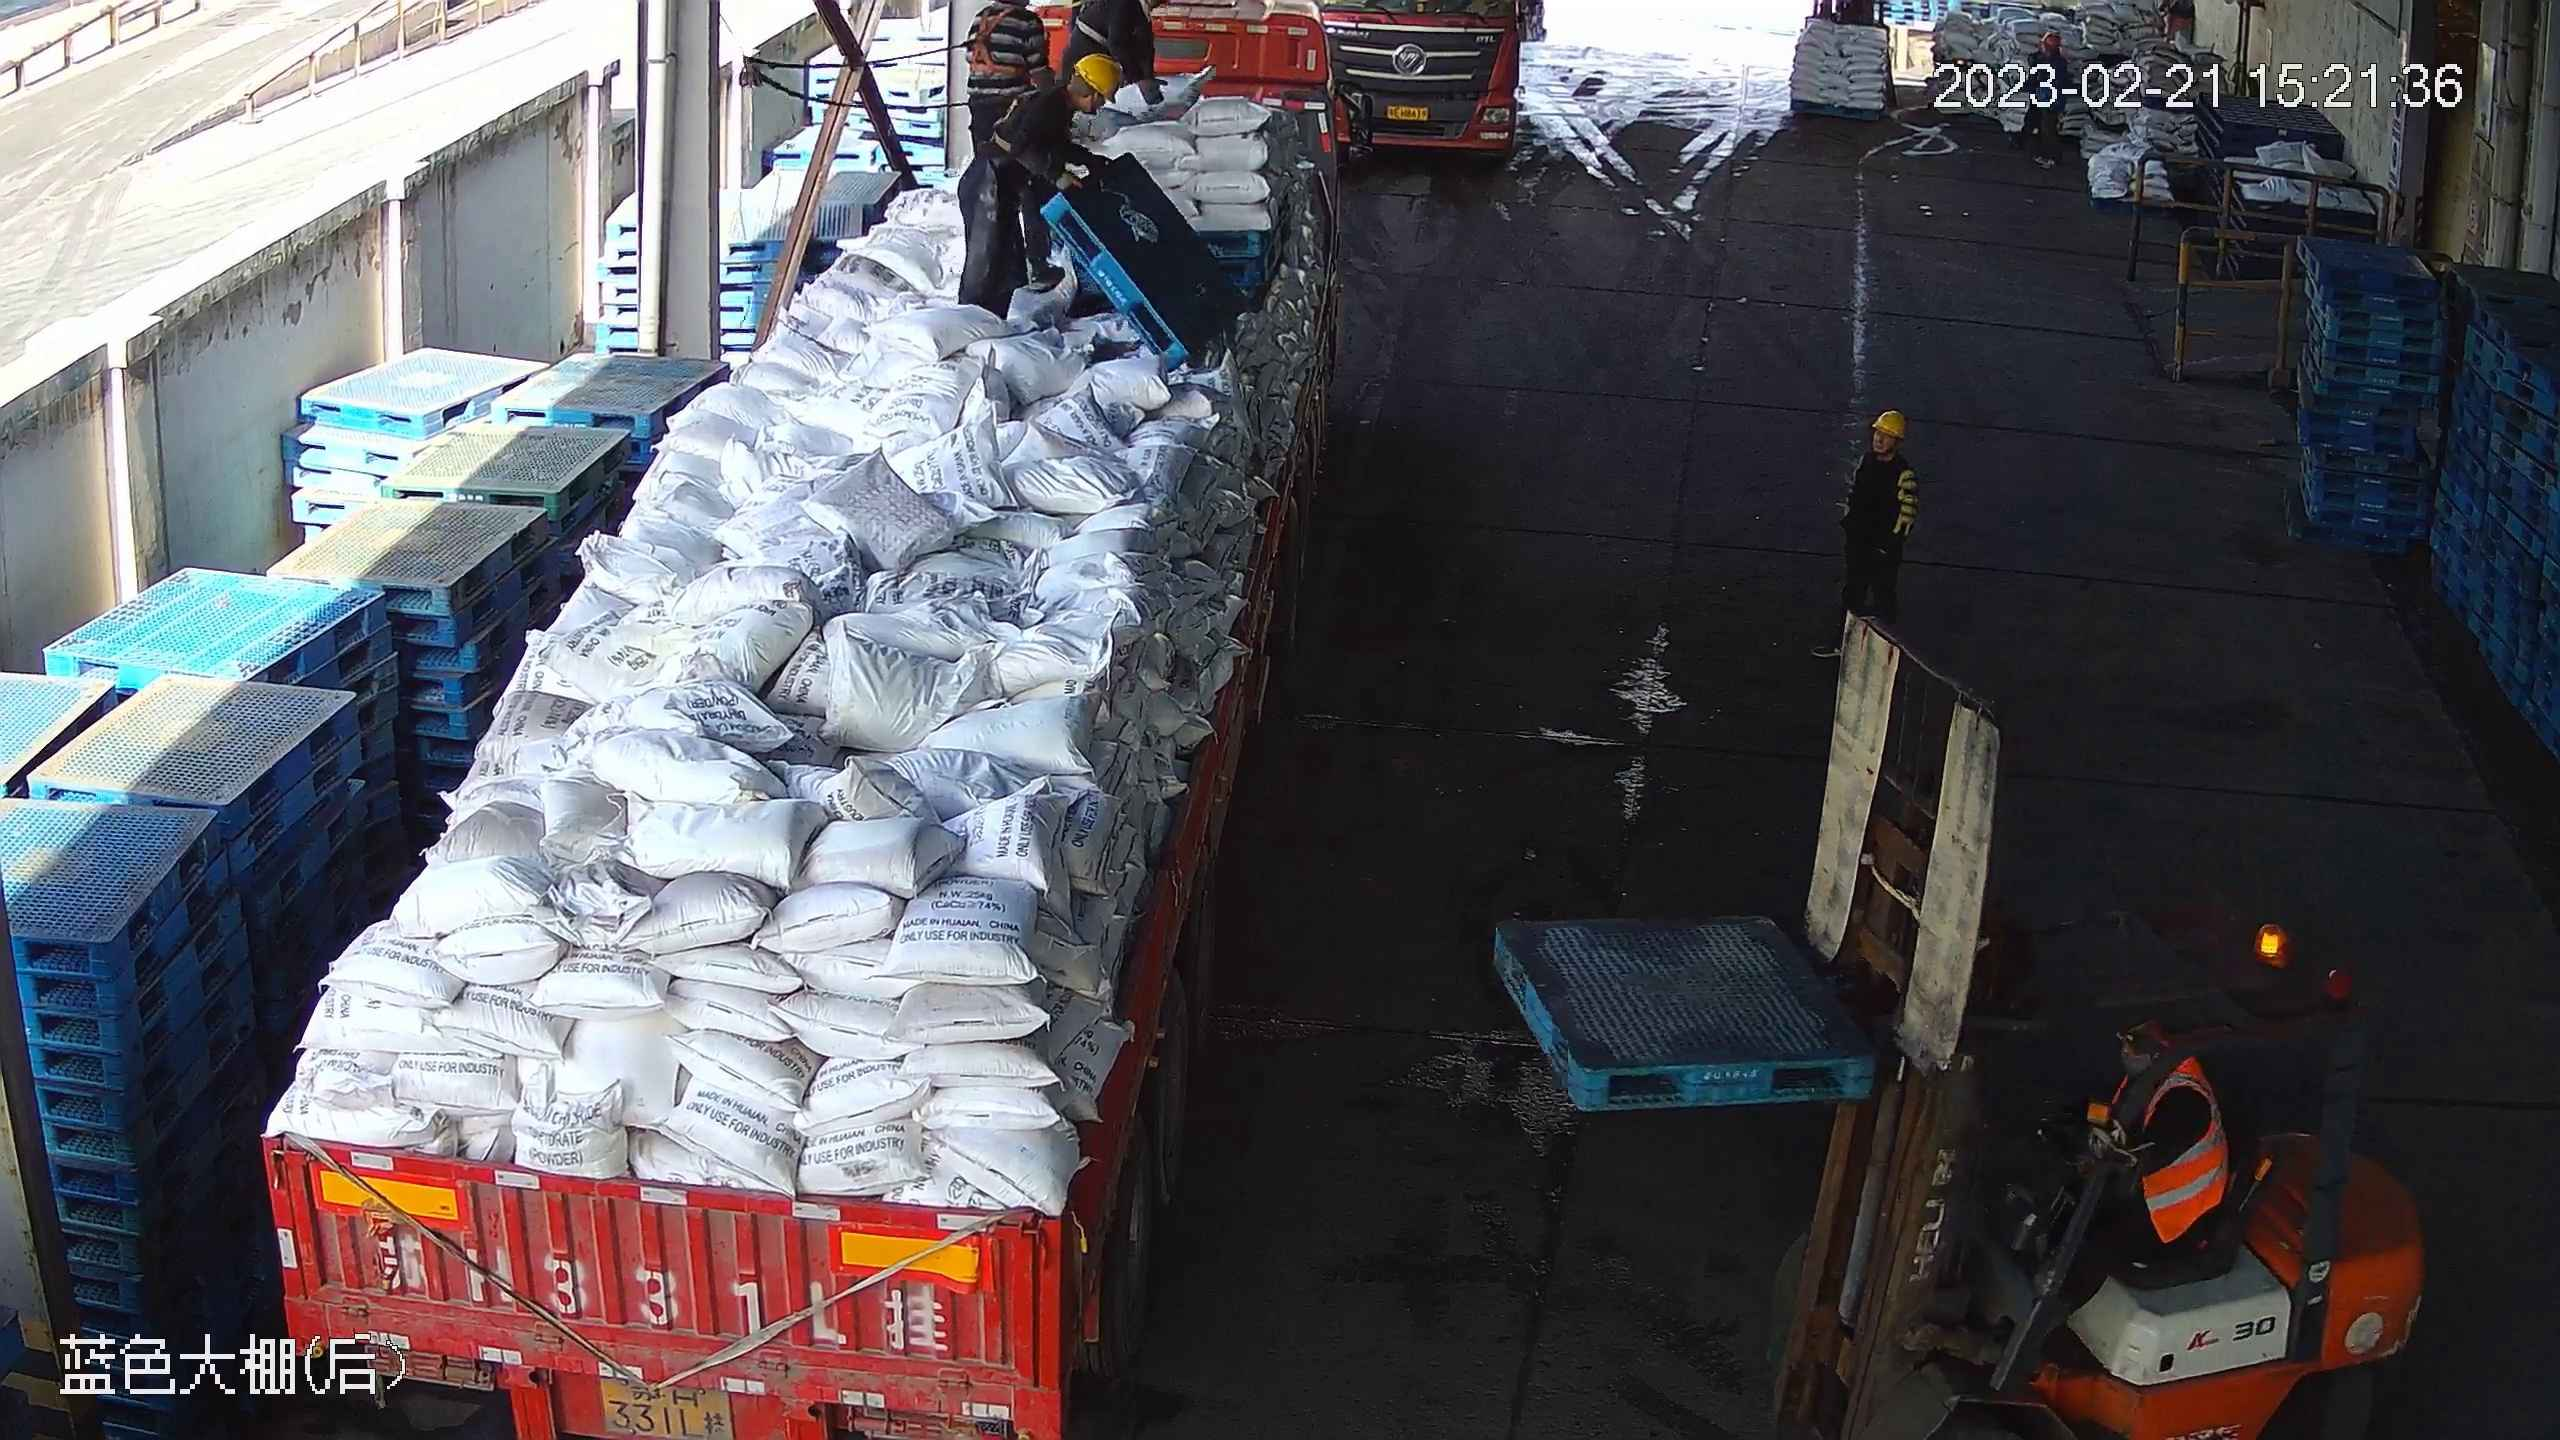belt: (984, 93, 1046, 164), (972, 9, 1030, 76)
head: (1023, 57, 1118, 148), (1849, 411, 1913, 478)
helmet: (1077, 53, 1116, 99), (1872, 413, 1904, 436)
people: (2044, 1023, 2227, 1322), (955, 53, 1125, 348), (1809, 408, 1923, 667), (972, 1, 1062, 295)
truck: (253, 4, 1362, 1440), (1324, 4, 1546, 165)
